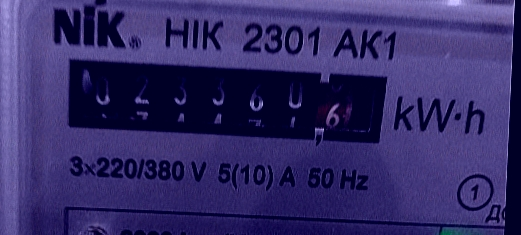0: (91, 70, 115, 106), (284, 75, 308, 111)
2: (131, 70, 154, 106)
3: (170, 72, 192, 108), (209, 73, 229, 107)
6: (246, 77, 268, 112), (323, 96, 343, 130)
screen: (52, 46, 408, 160)
